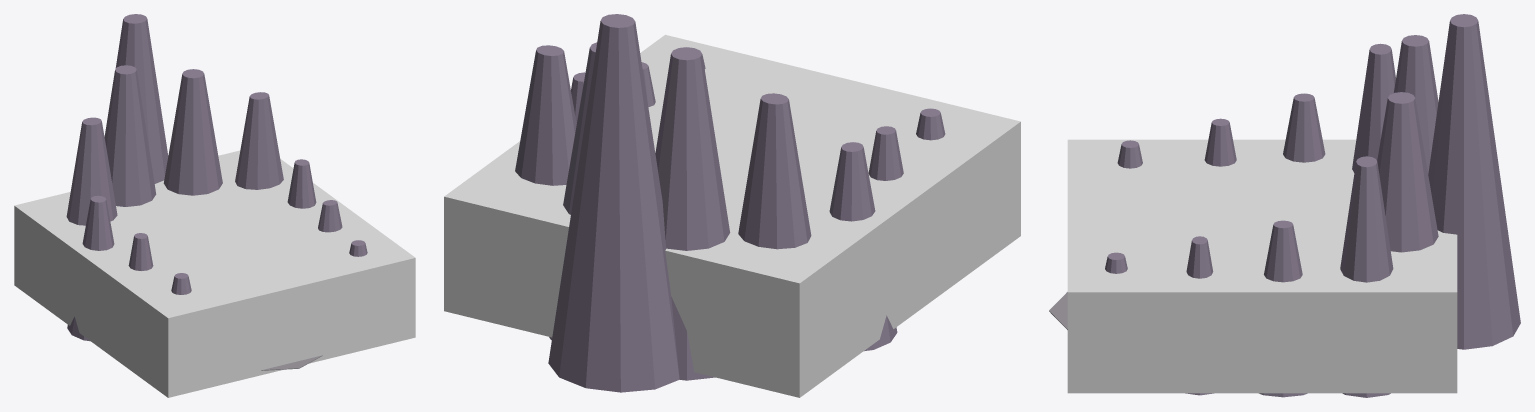
File: ForbiddenTempleArena.fbx
3 renders of one model, left to right at view 1: azimuth 30°, elevation 25°; view 2: azimuth 150°, elevation 25°; view 3: azimuth 270°, elevation 25°, orthographic. The views are drawn at different scales.
Visible parts, largest first — view 1: VolumetricMist, KarstPeak_1, KarstPeak_2, KarstPeak_4, KarstPeak_3, KarstPeak_0, KarstPeak_5, KarstPeak_8, KarstPeak_6, KarstPeak_9, KarstPeak_7; view 2: VolumetricMist, KarstPeak_4, KarstPeak_1, KarstPeak_0, KarstPeak_3, KarstPeak_5, KarstPeak_6, KarstPeak_2, KarstPeak_7; view 3: VolumetricMist, KarstPeak_4, KarstPeak_2, KarstPeak_3, KarstPeak_1, KarstPeak_0, KarstPeak_5, KarstPeak_8, KarstPeak_6, KarstPeak_9, KarstPeak_7, KarstPeak_10.
Boxes of the visible parts, box(x1,y1,x2,y2) form: VolumetricMist: box(14, 150, 415, 397); KarstPeak_1: box(104, 65, 156, 206); KarstPeak_2: box(163, 69, 222, 195); KarstPeak_4: box(115, 14, 168, 183); KarstPeak_3: box(235, 92, 283, 189); KarstPeak_0: box(66, 117, 117, 225); KarstPeak_5: box(67, 195, 114, 341); KarstPeak_8: box(287, 159, 316, 208); KarstPeak_6: box(128, 233, 153, 270); KarstPeak_9: box(318, 200, 342, 232); KarstPeak_7: box(171, 273, 191, 294); VolumetricMist: box(444, 34, 1020, 397); KarstPeak_4: box(548, 14, 679, 392); KarstPeak_1: box(655, 47, 730, 380); KarstPeak_0: box(738, 93, 811, 249); KarstPeak_3: box(515, 45, 576, 185); KarstPeak_5: box(829, 142, 897, 351); KarstPeak_6: box(868, 126, 903, 180); KarstPeak_2: box(549, 42, 597, 340); KarstPeak_7: box(916, 108, 945, 140); VolumetricMist: box(1067, 139, 1457, 393); KarstPeak_4: box(1428, 14, 1520, 349); KarstPeak_2: box(1377, 92, 1438, 252); KarstPeak_3: box(1340, 156, 1393, 397); KarstPeak_1: box(1394, 35, 1438, 173); KarstPeak_0: box(1352, 43, 1395, 172); KarstPeak_5: box(1283, 93, 1325, 162); KarstPeak_8: box(1259, 220, 1307, 397); KarstPeak_6: box(1204, 118, 1236, 166); KarstPeak_9: box(1185, 236, 1213, 395); KarstPeak_7: box(1117, 140, 1142, 168); KarstPeak_10: box(1105, 252, 1127, 273).
Size of the model in its own units: 263 by 240 by 339.
